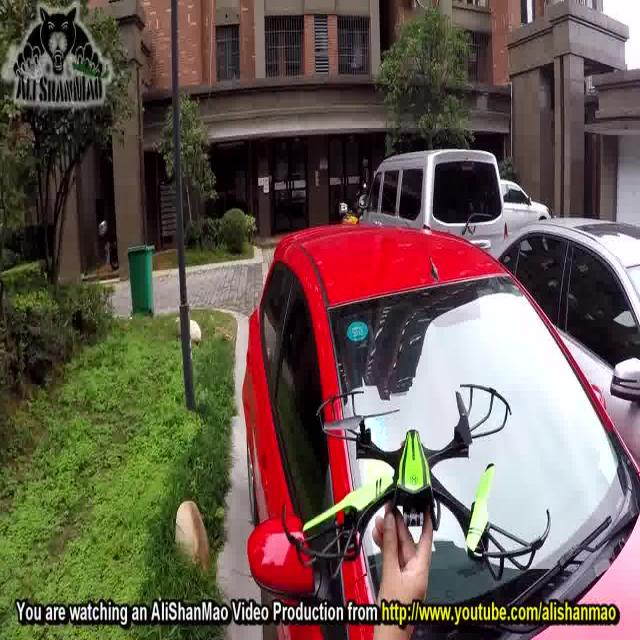drones: (278, 374, 554, 582)
